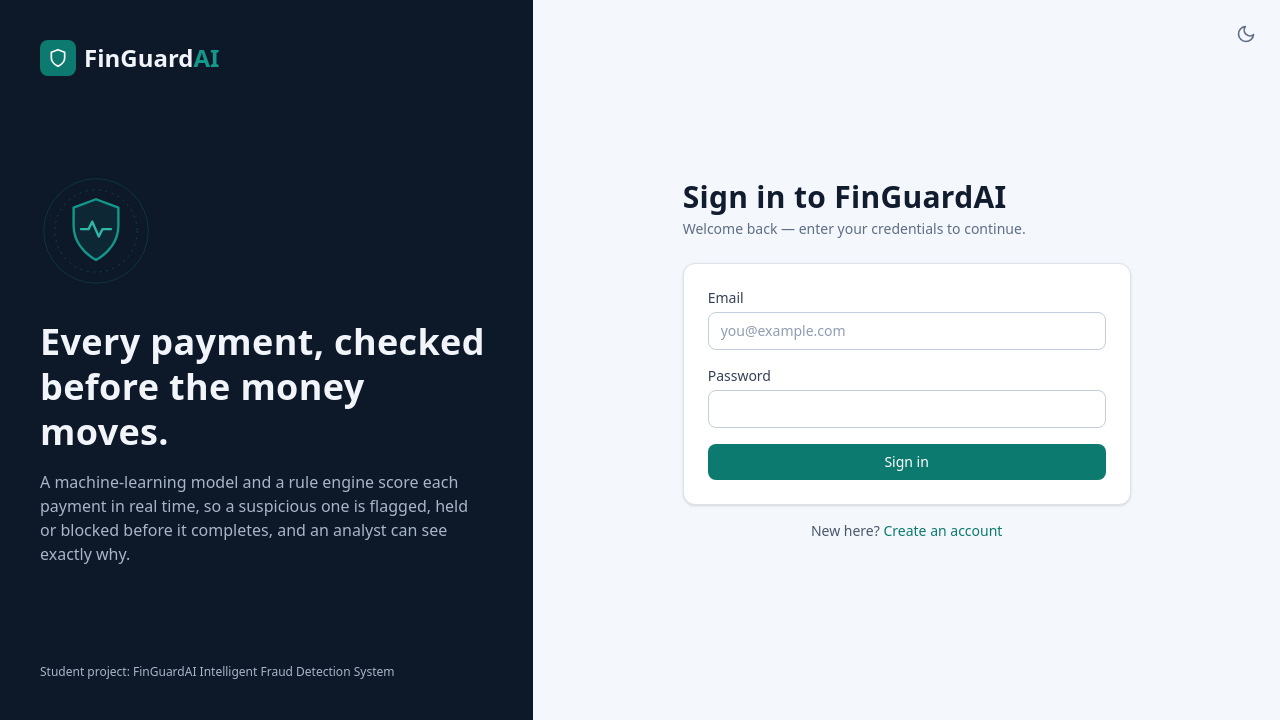
it: N-17: return to the page the visitor wanted after signing in › keeps the query string of the deep link
Type "ravi@example.com" into the field labelled "Email" at (907, 331), box [708,312,1106,350]
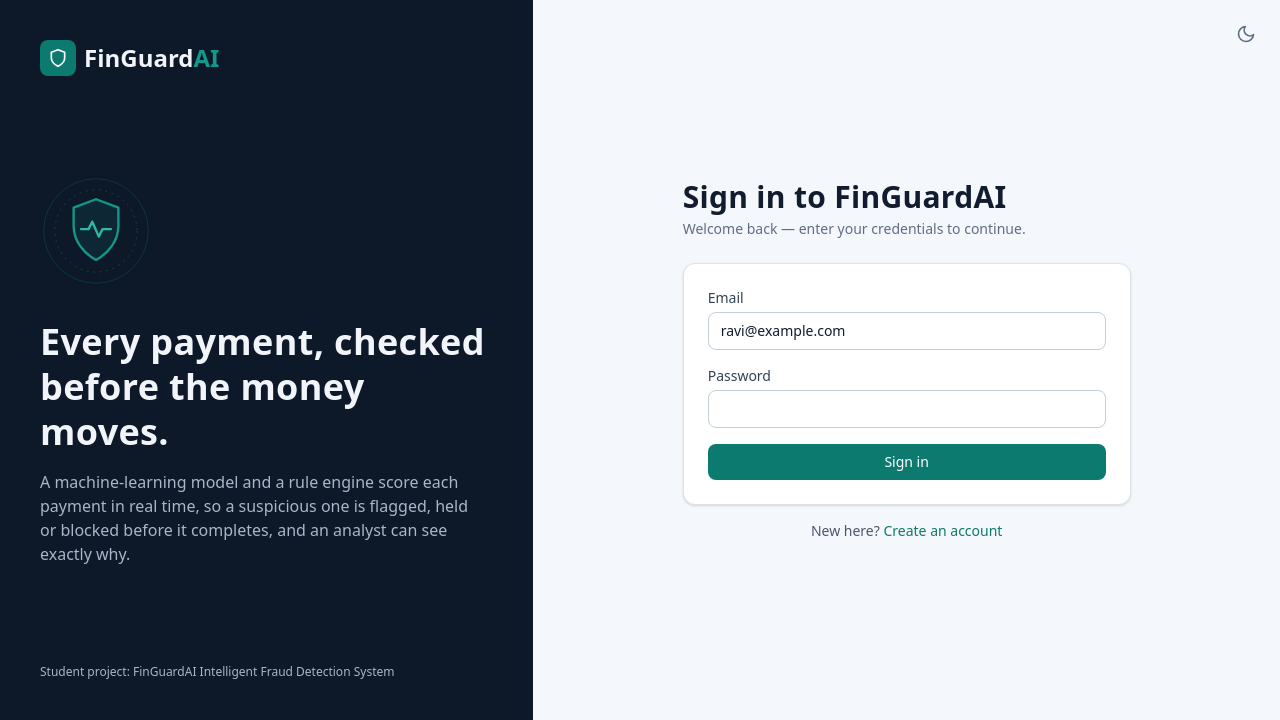
Type "Password@123" into the password field labelled "Password" at (907, 409), box [708,390,1106,428]
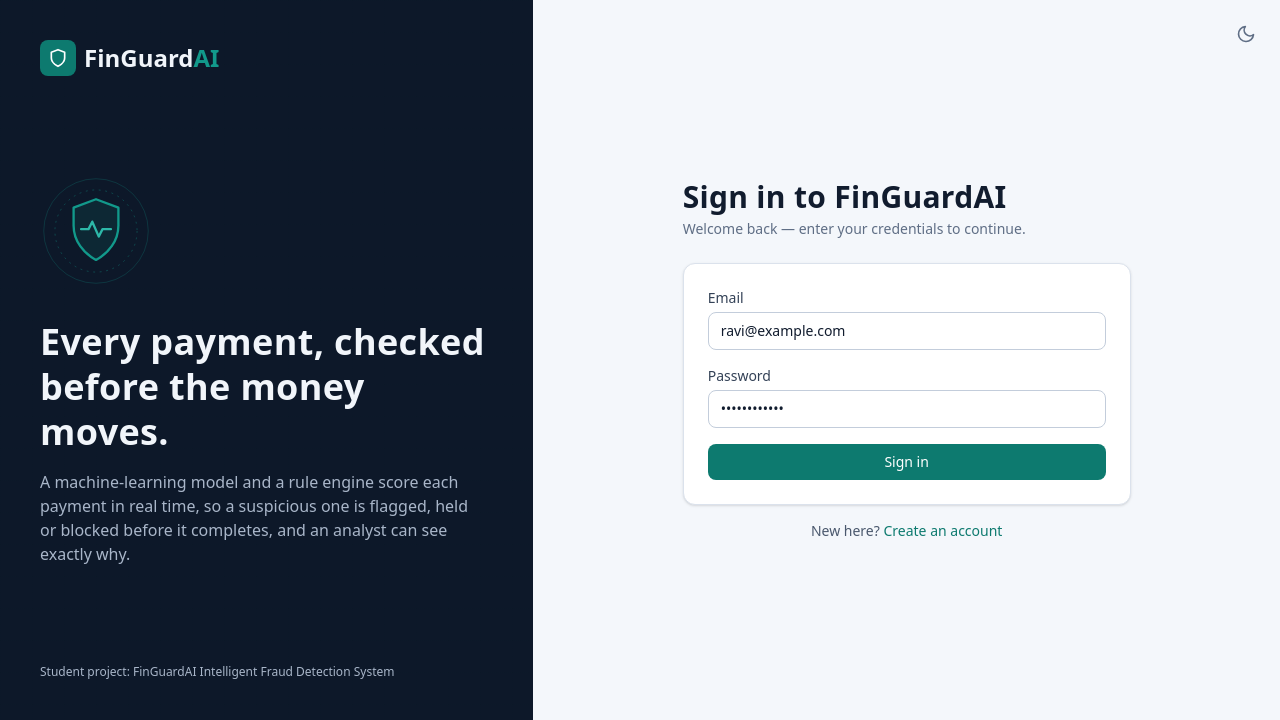
Click the button "Sign in" at (907, 462), box [708,444,1106,480]
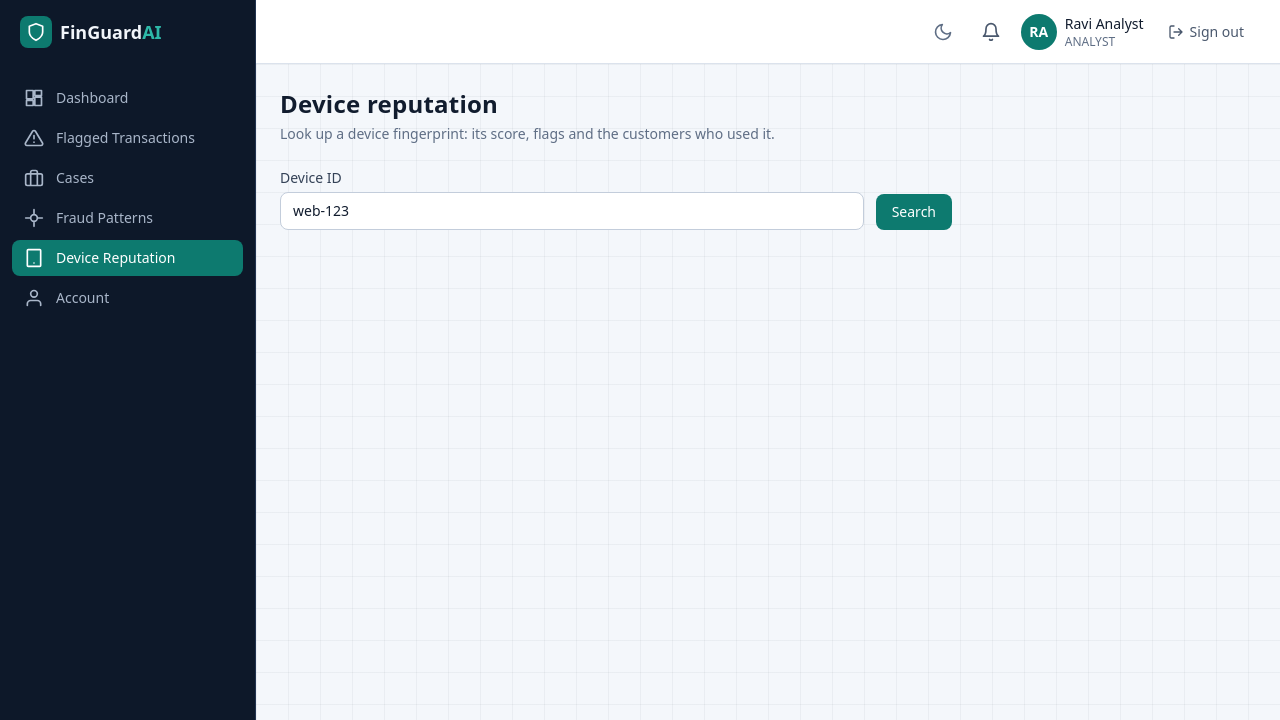
Expected: the heading "Device reputation" is shown, [280,87,498,120]
